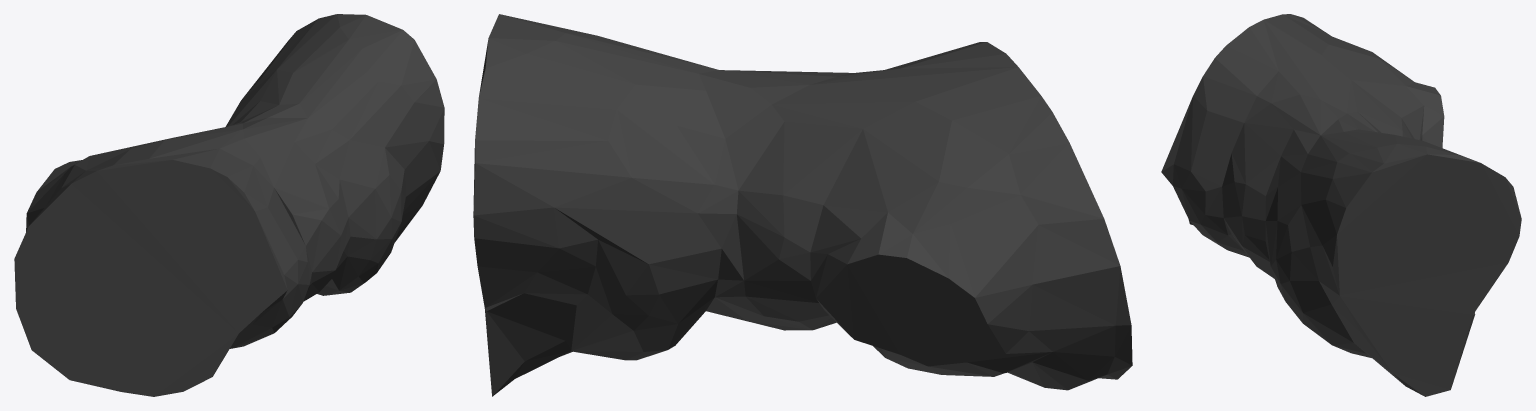
The model's file is Right_principal_bronchus_1.glb.
The picture shows the model from 3 angles, left to right: view 1: azimuth 30°, elevation 25°; view 2: azimuth 150°, elevation 25°; view 3: azimuth 270°, elevation 25°; orthographic projection. The views are drawn at different scales.
Visible parts, largest first — view 1: Right_principal_bronchus_1; view 2: Right_principal_bronchus_1; view 3: Right_principal_bronchus_1.
Boxes of the visible parts, left/top/right/bottom form: Right_principal_bronchus_1: left=14, top=14, right=444, bottom=396; Right_principal_bronchus_1: left=473, top=14, right=1132, bottom=396; Right_principal_bronchus_1: left=1161, top=14, right=1521, bottom=396.
Size of the model in its own units: 1.23 by 0.6694 by 0.8934.
1 material, 1 textured.
